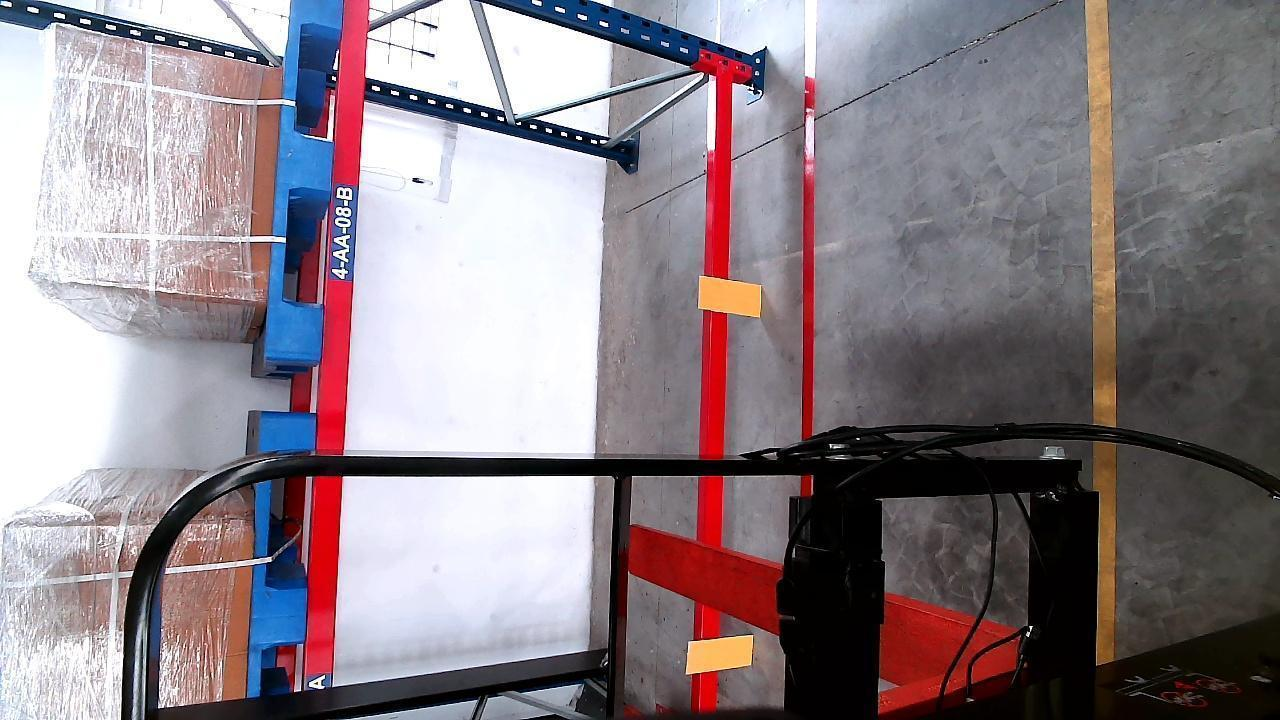red_line: (796, 1, 822, 442)
yellow_line: (1087, 0, 1121, 668)
